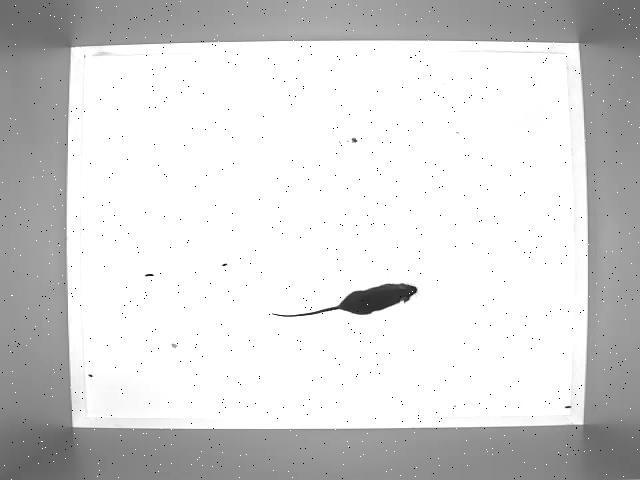Tikus: (269, 280, 421, 322)
